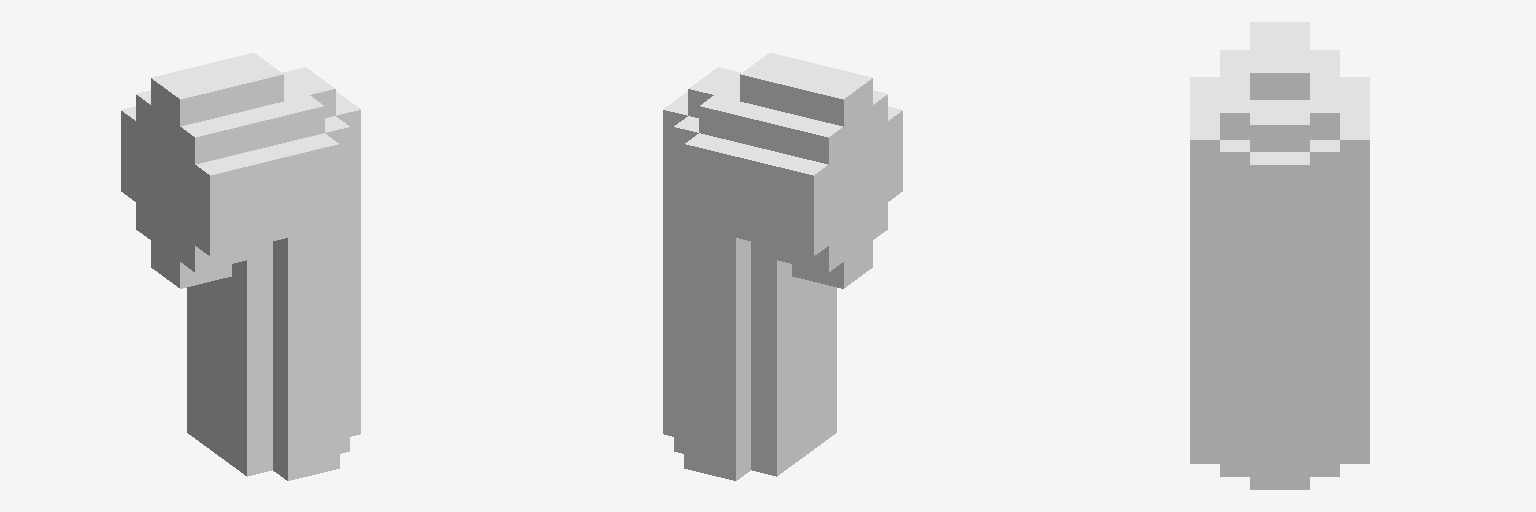
File: lvl1-1.obj
3 views of the same model, side by side, from view 1: azimuth 30°, elevation 25°; view 2: azimuth 150°, elevation 25°; view 3: azimuth 270°, elevation 25° (orthographic).
Parts seen in each view (by area): view 1: object 1; view 2: object 1; view 3: object 1.
Part boxes in pixels (bbox=[...]): object 1: bbox=[121, 53, 360, 480]; object 1: bbox=[663, 53, 902, 480]; object 1: bbox=[1190, 22, 1369, 489].
Size of the model in its own units: 0.7 by 1.4 by 0.6.